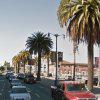Car: (49, 72, 100, 100)
